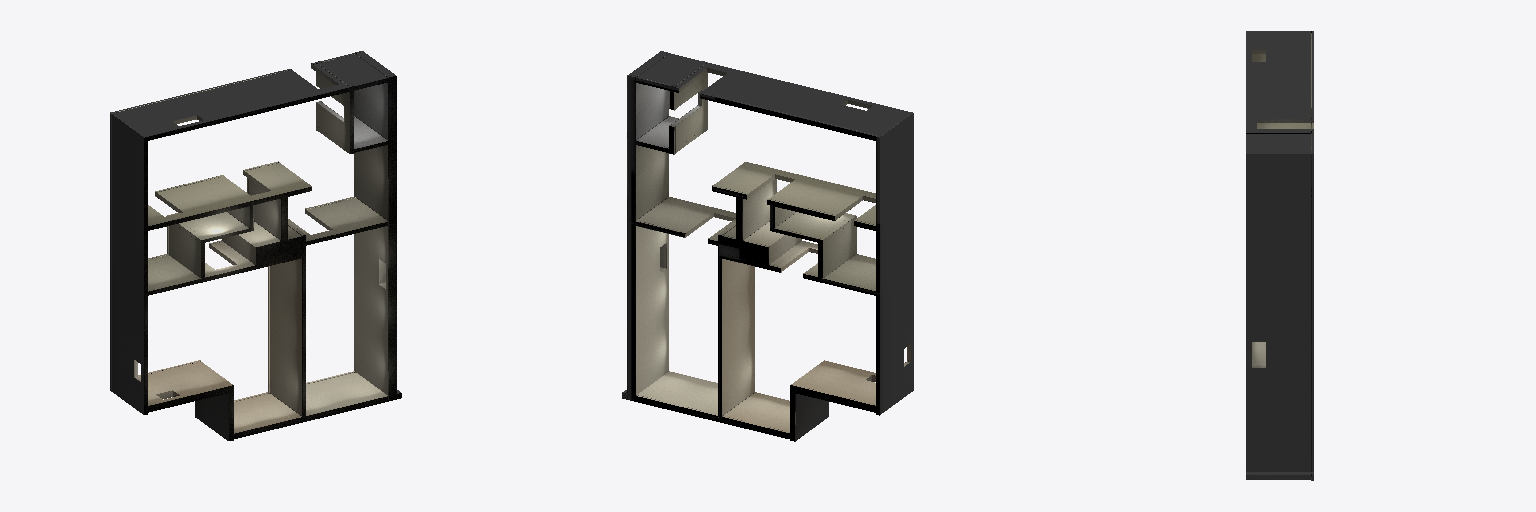
The picture shows the model from 3 angles: view 1: azimuth 30°, elevation 25°; view 2: azimuth 150°, elevation 25°; view 3: azimuth 270°, elevation 25°; orthographic projection.
Size of the model in its own units: 10.55 by 12.72 by 2.4.
1 materials, 1 textured.